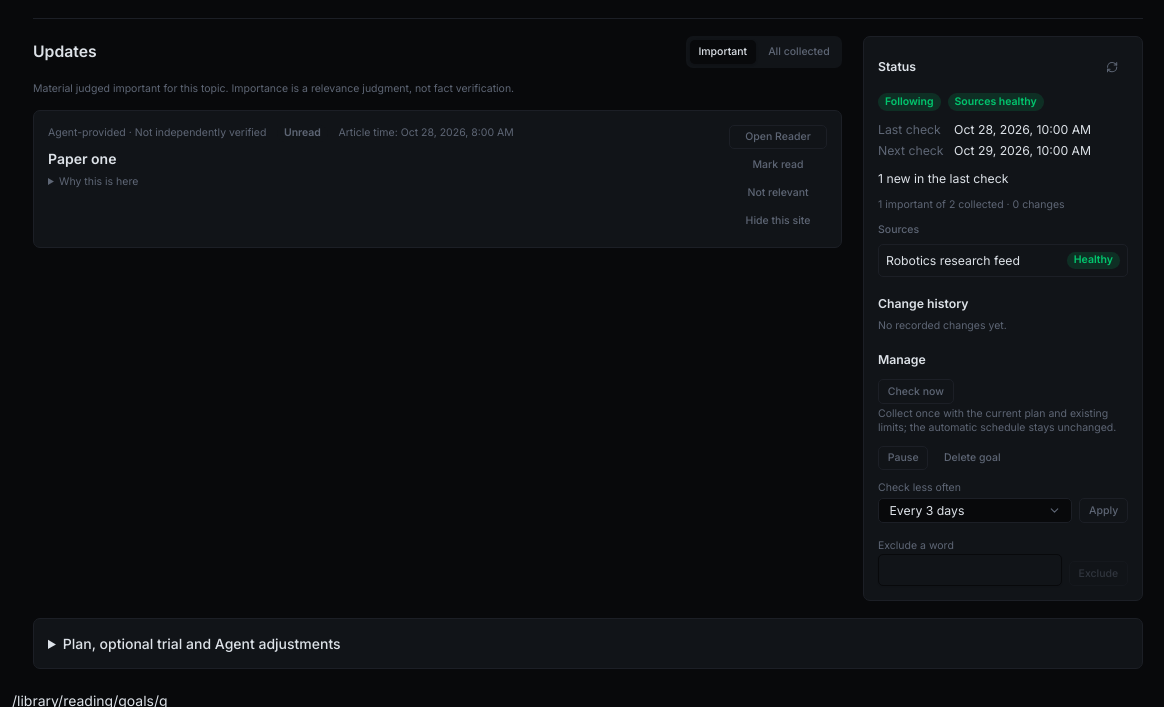
shows actual failed planning and its time-limit reason
This screenshot has width=1164, height=707.
(page scrolled)
Expected: the link "Paper one" is shown, [48, 150, 116, 167]
Click the heading "Plan, optional trial and Agent adjustments". click: (202, 644)
box: [63, 635, 341, 652]
(page scrolled)
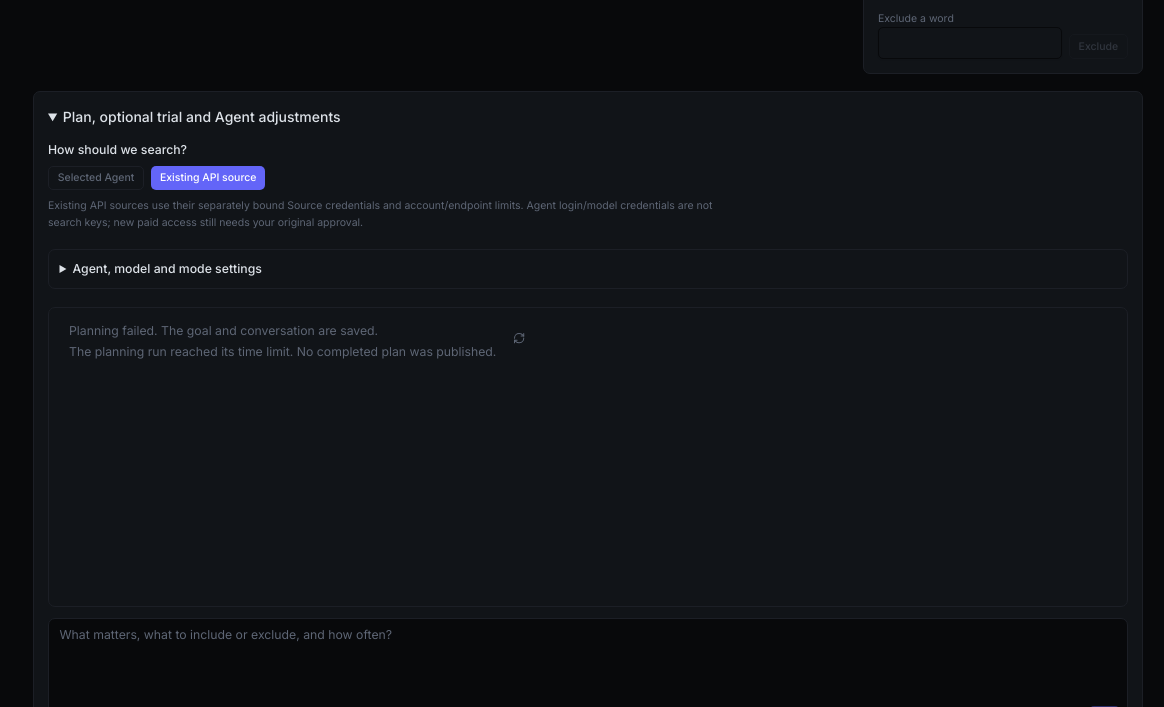
Now the text "Planning failed. The goal and conversation are saved." is shown, box [69, 323, 378, 338]
Now the text "The planning run reached its time limit. No completed plan was published." is shown, box [69, 343, 496, 360]
